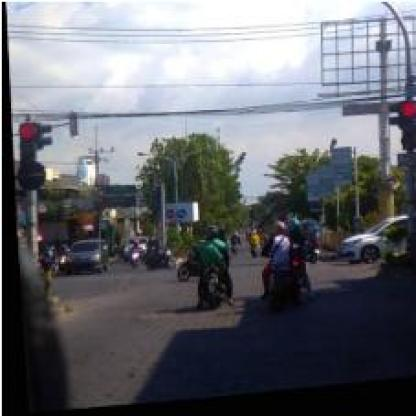red: (14, 119, 34, 171), (395, 109, 415, 159)
